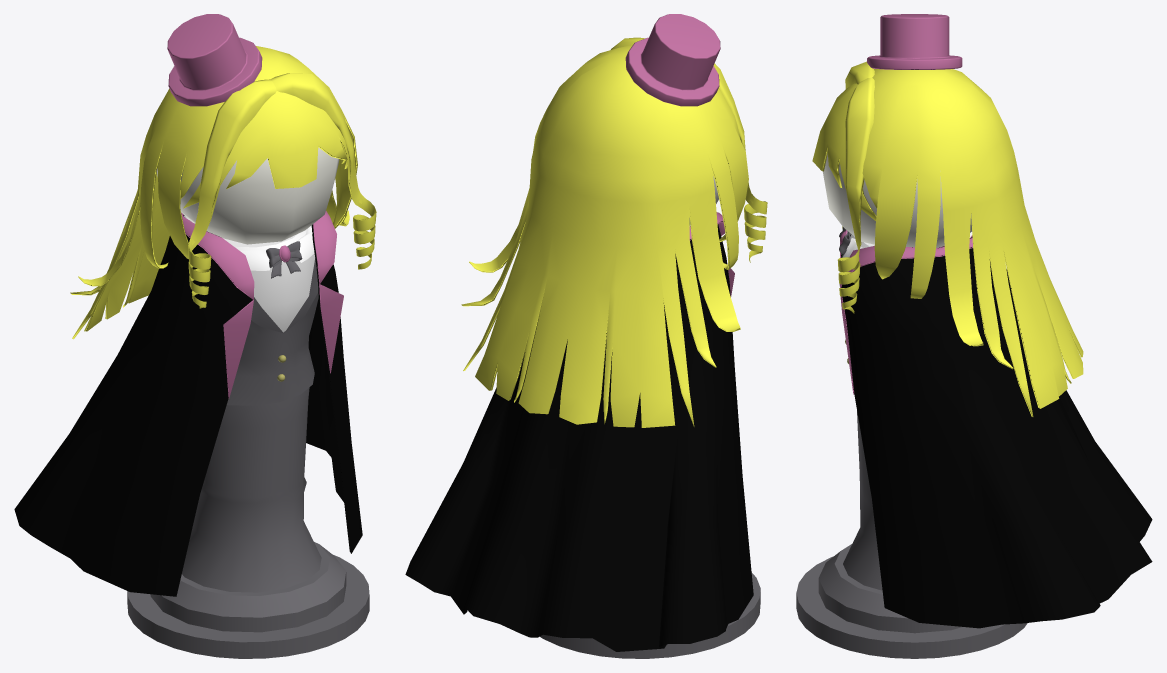
File: KaitouModel.fbx
The picture shows the model from 3 angles, left to right: view 1: azimuth 30°, elevation 25°; view 2: azimuth 150°, elevation 25°; view 3: azimuth 270°, elevation 25°; orthographic projection. The views are drawn at different scales.
Parts seen in each view (by area): view 1: polySurface47; view 2: polySurface47; view 3: polySurface47.
Boxes of the visible parts, x1=… form: polySurface47: x1=14, y1=14, x2=376, y2=658; polySurface47: x1=405, y1=14, x2=767, y2=658; polySurface47: x1=796, y1=14, x2=1152, y2=658.
Bounding box in the file's own units: 95.51 × 177 × 98.27.
